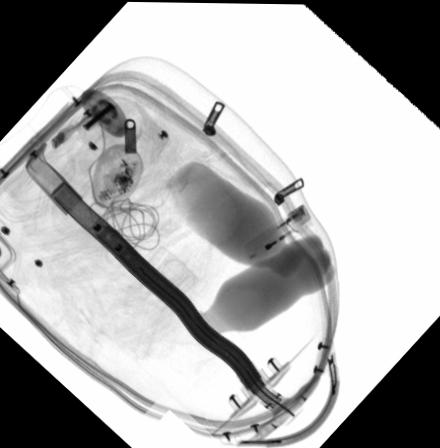Lighter: (242, 201, 313, 260)
